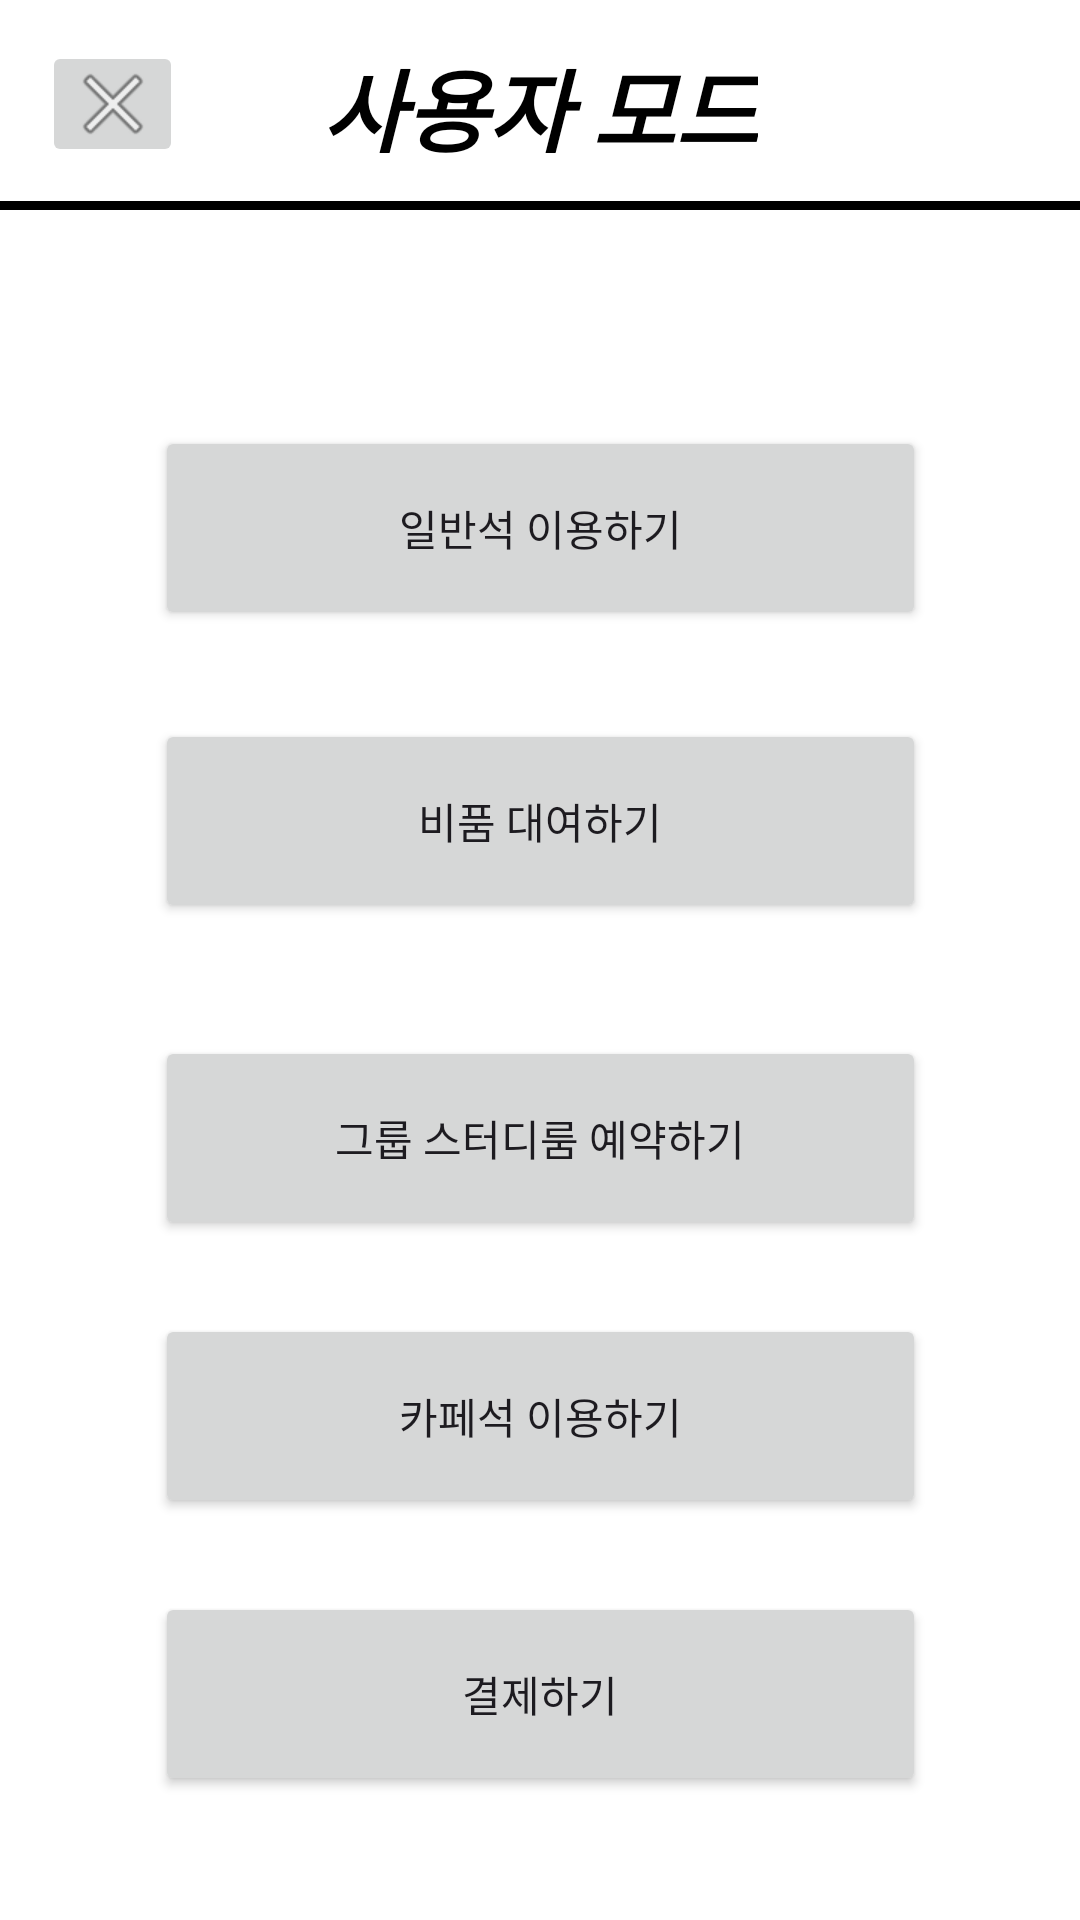

Icons on this 1080px x 1920px Android screen, each with its box as bbox=[x1, y1, x2, y2]:
close clear cancel: bbox=[54, 59, 171, 149]
